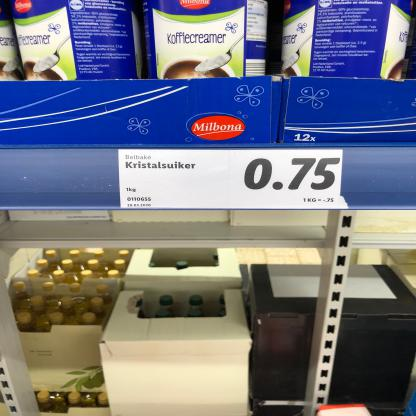prtg: (119, 150, 344, 210)
